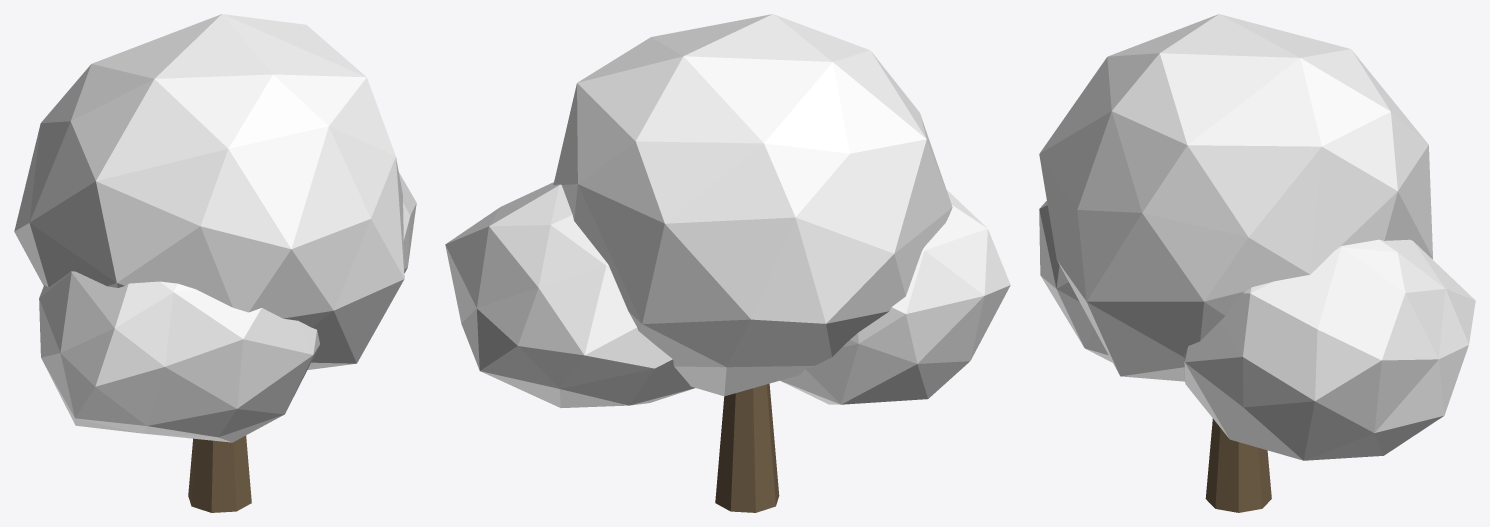
3 renders of one model, left to right at view 1: azimuth 30°, elevation 25°; view 2: azimuth 150°, elevation 25°; view 3: azimuth 270°, elevation 25°, orthographic.
Visible parts, largest first — view 1: node (×4); view 2: node (×4); view 3: node (×4).
Boxes of the visible parts, x1=… form: node (×4): x1=14, y1=14, x2=416, y2=512; node (×4): x1=445, y1=14, x2=1010, y2=512; node (×4): x1=1039, y1=14, x2=1475, y2=512.
Bounding box in the file's own units: 1.7 × 1.71 × 1.48.
